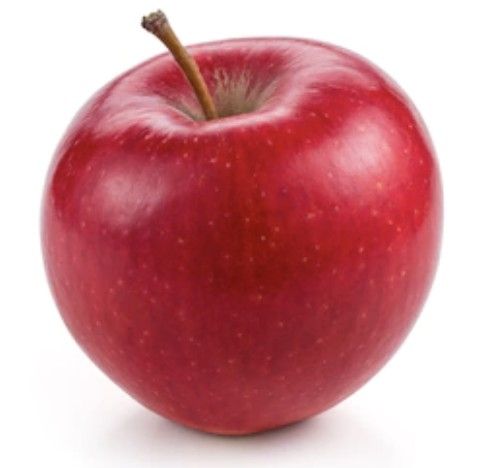fresh_apple: (39, 38, 446, 440)
